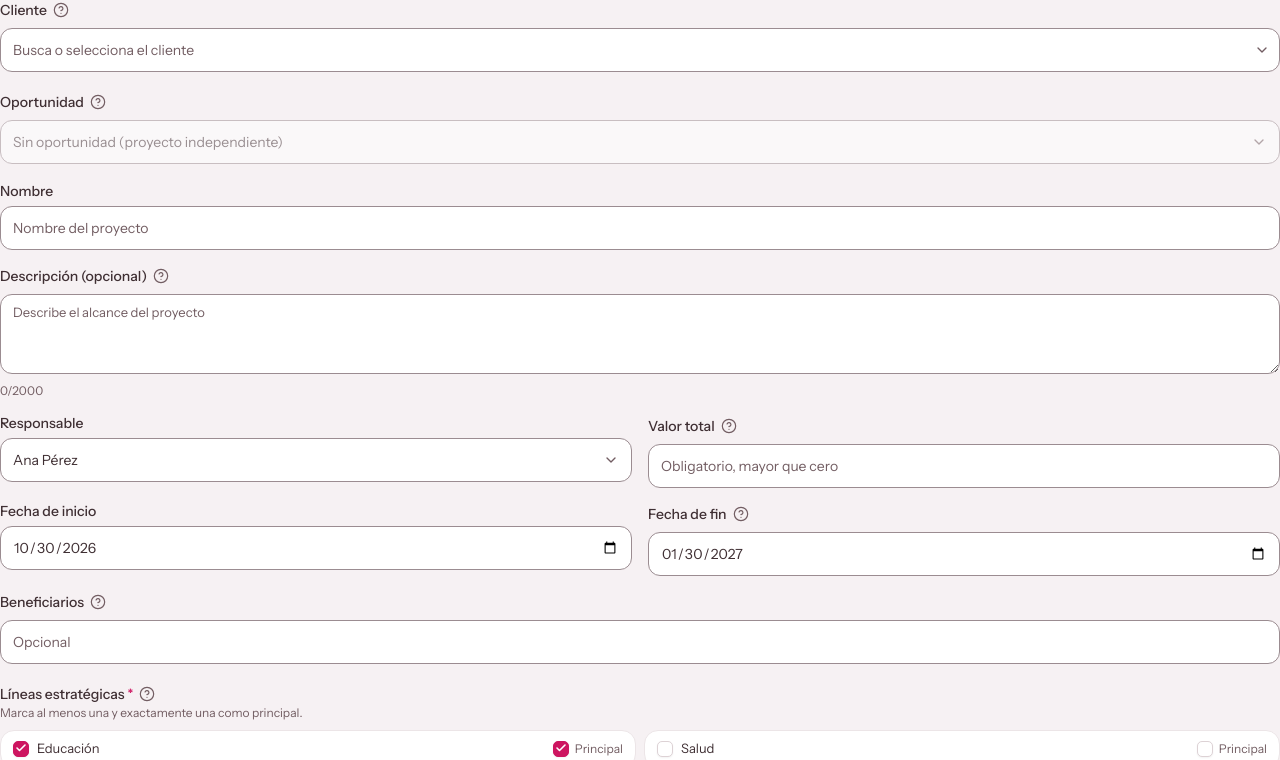
Test: ProjectCreateForm › searches and selects the client in one field (PO 2026-10-23)
Type "zeta" into the dropdown labelled "Cliente" at (640, 50), box [0,28,1279,72]
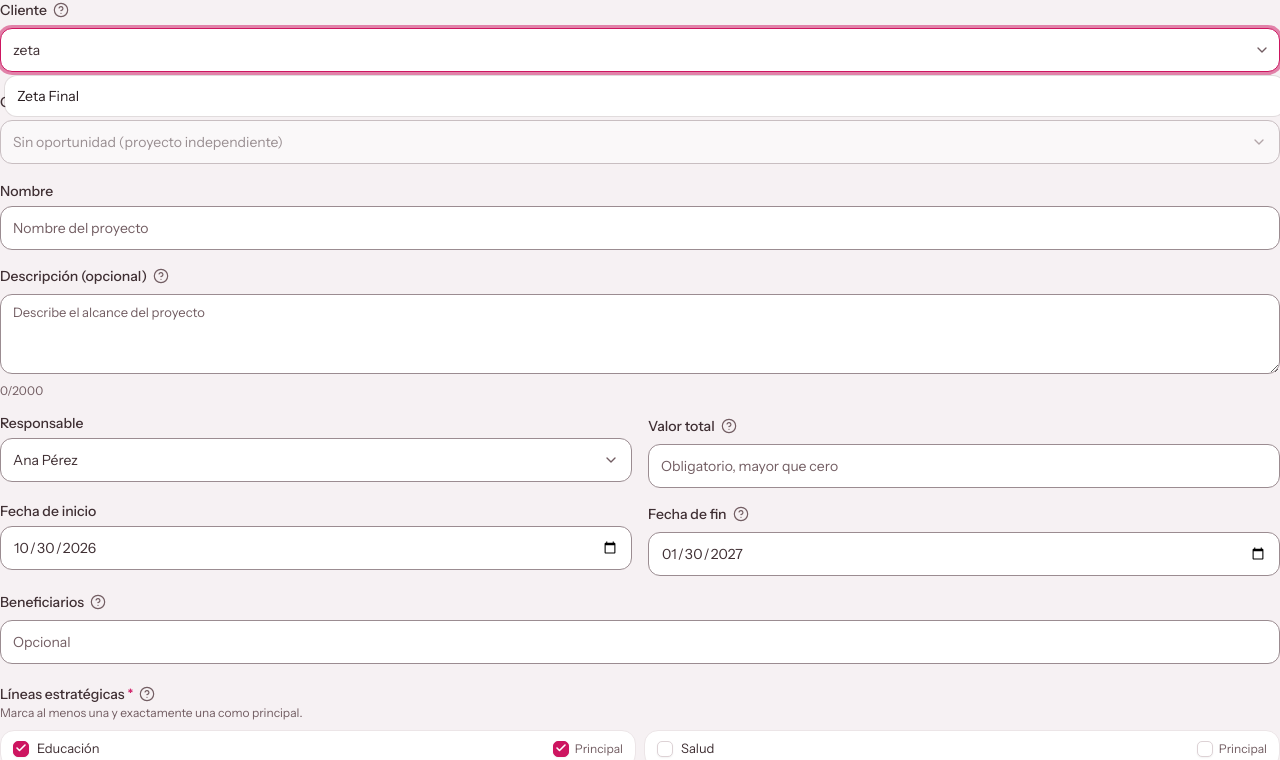
Result: the number of options is 1
Click the option "Zeta Final" at (48, 96), box [17,87,79,105]
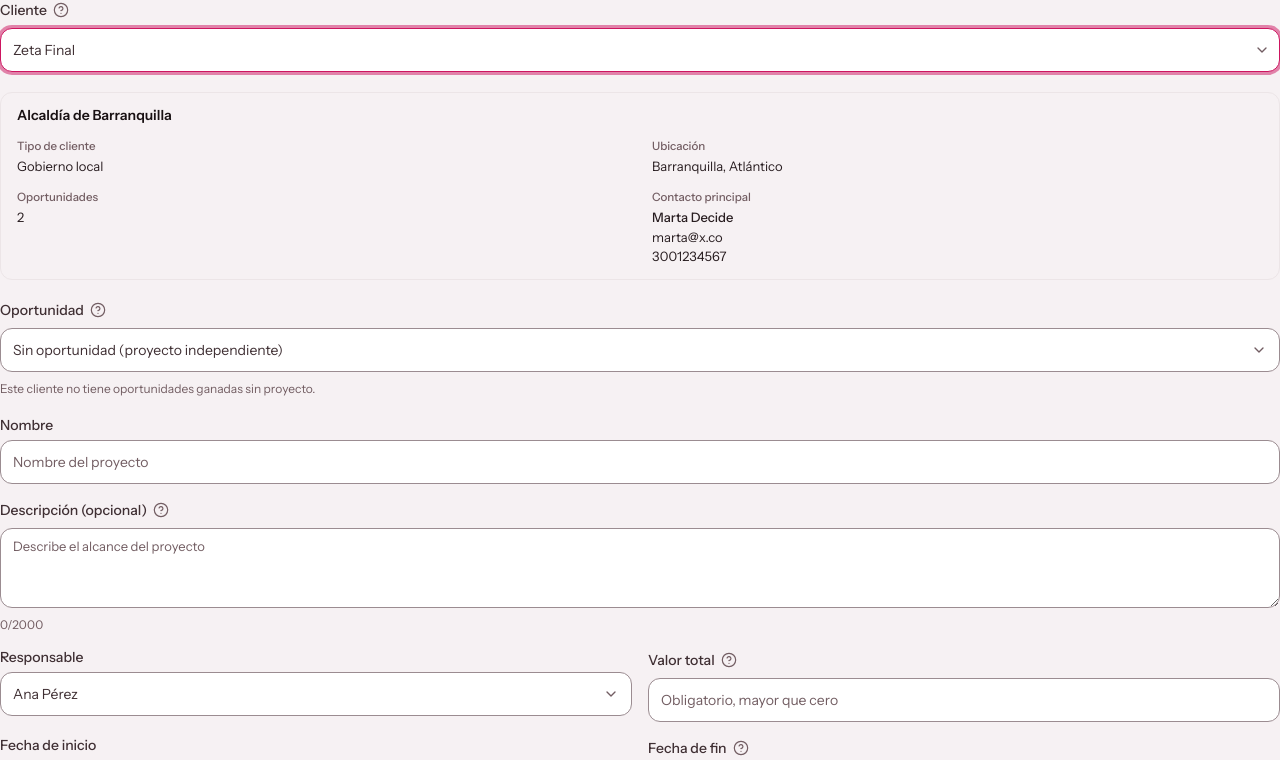
Result: the dropdown labelled "Cliente" holds "Zeta Final" at [0,28,1279,72]
Result: the dropdown labelled "oportunidad" is enabled at [0,328,1279,372]
